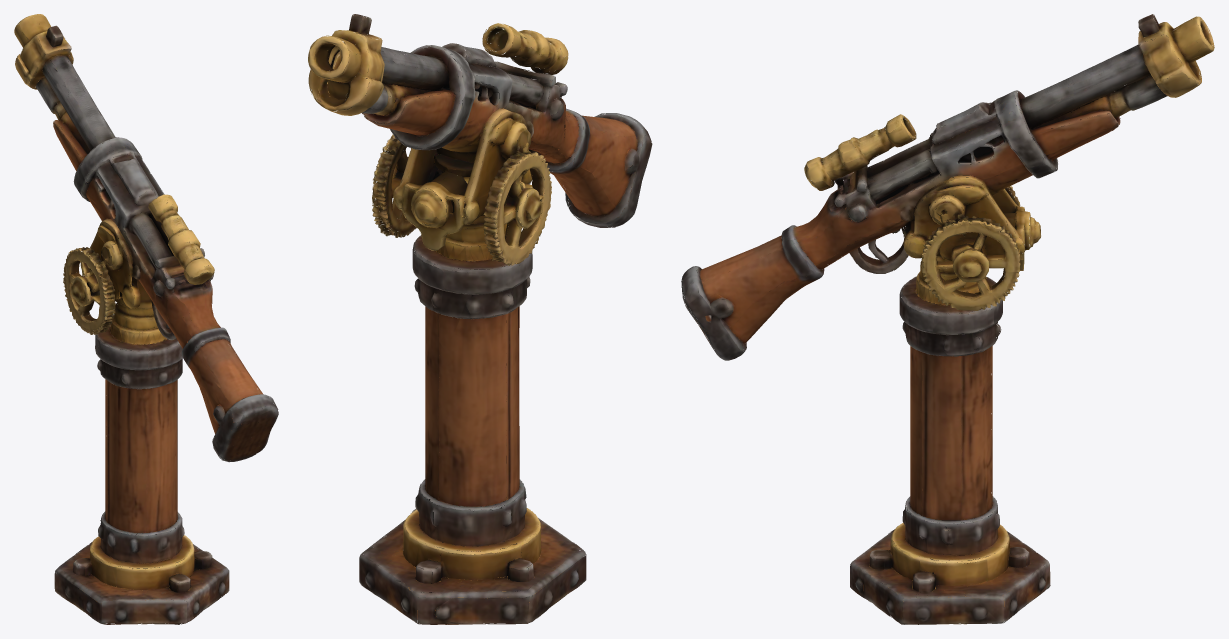
Rendered from skeet_post.glb.
The picture shows the model from 3 angles, left to right: view 1: azimuth 30°, elevation 25°; view 2: azimuth 150°, elevation 25°; view 3: azimuth 270°, elevation 25°; orthographic projection. The views are drawn at different scales.
Parts seen in each view (by area): view 1: gun, base; view 2: base, gun; view 3: gun, base.
Boxes of the visible parts, box(x1,y1,x2,y2) form: gun: box(14, 14, 277, 416); base: box(54, 324, 278, 624); base: box(359, 127, 652, 624); gun: box(308, 14, 648, 265); gun: box(681, 14, 1214, 310); base: box(682, 276, 1050, 624).
Bounding box in the file's own units: 0.6211 × 2.2 × 1.86.
1 material, 1 textured.
